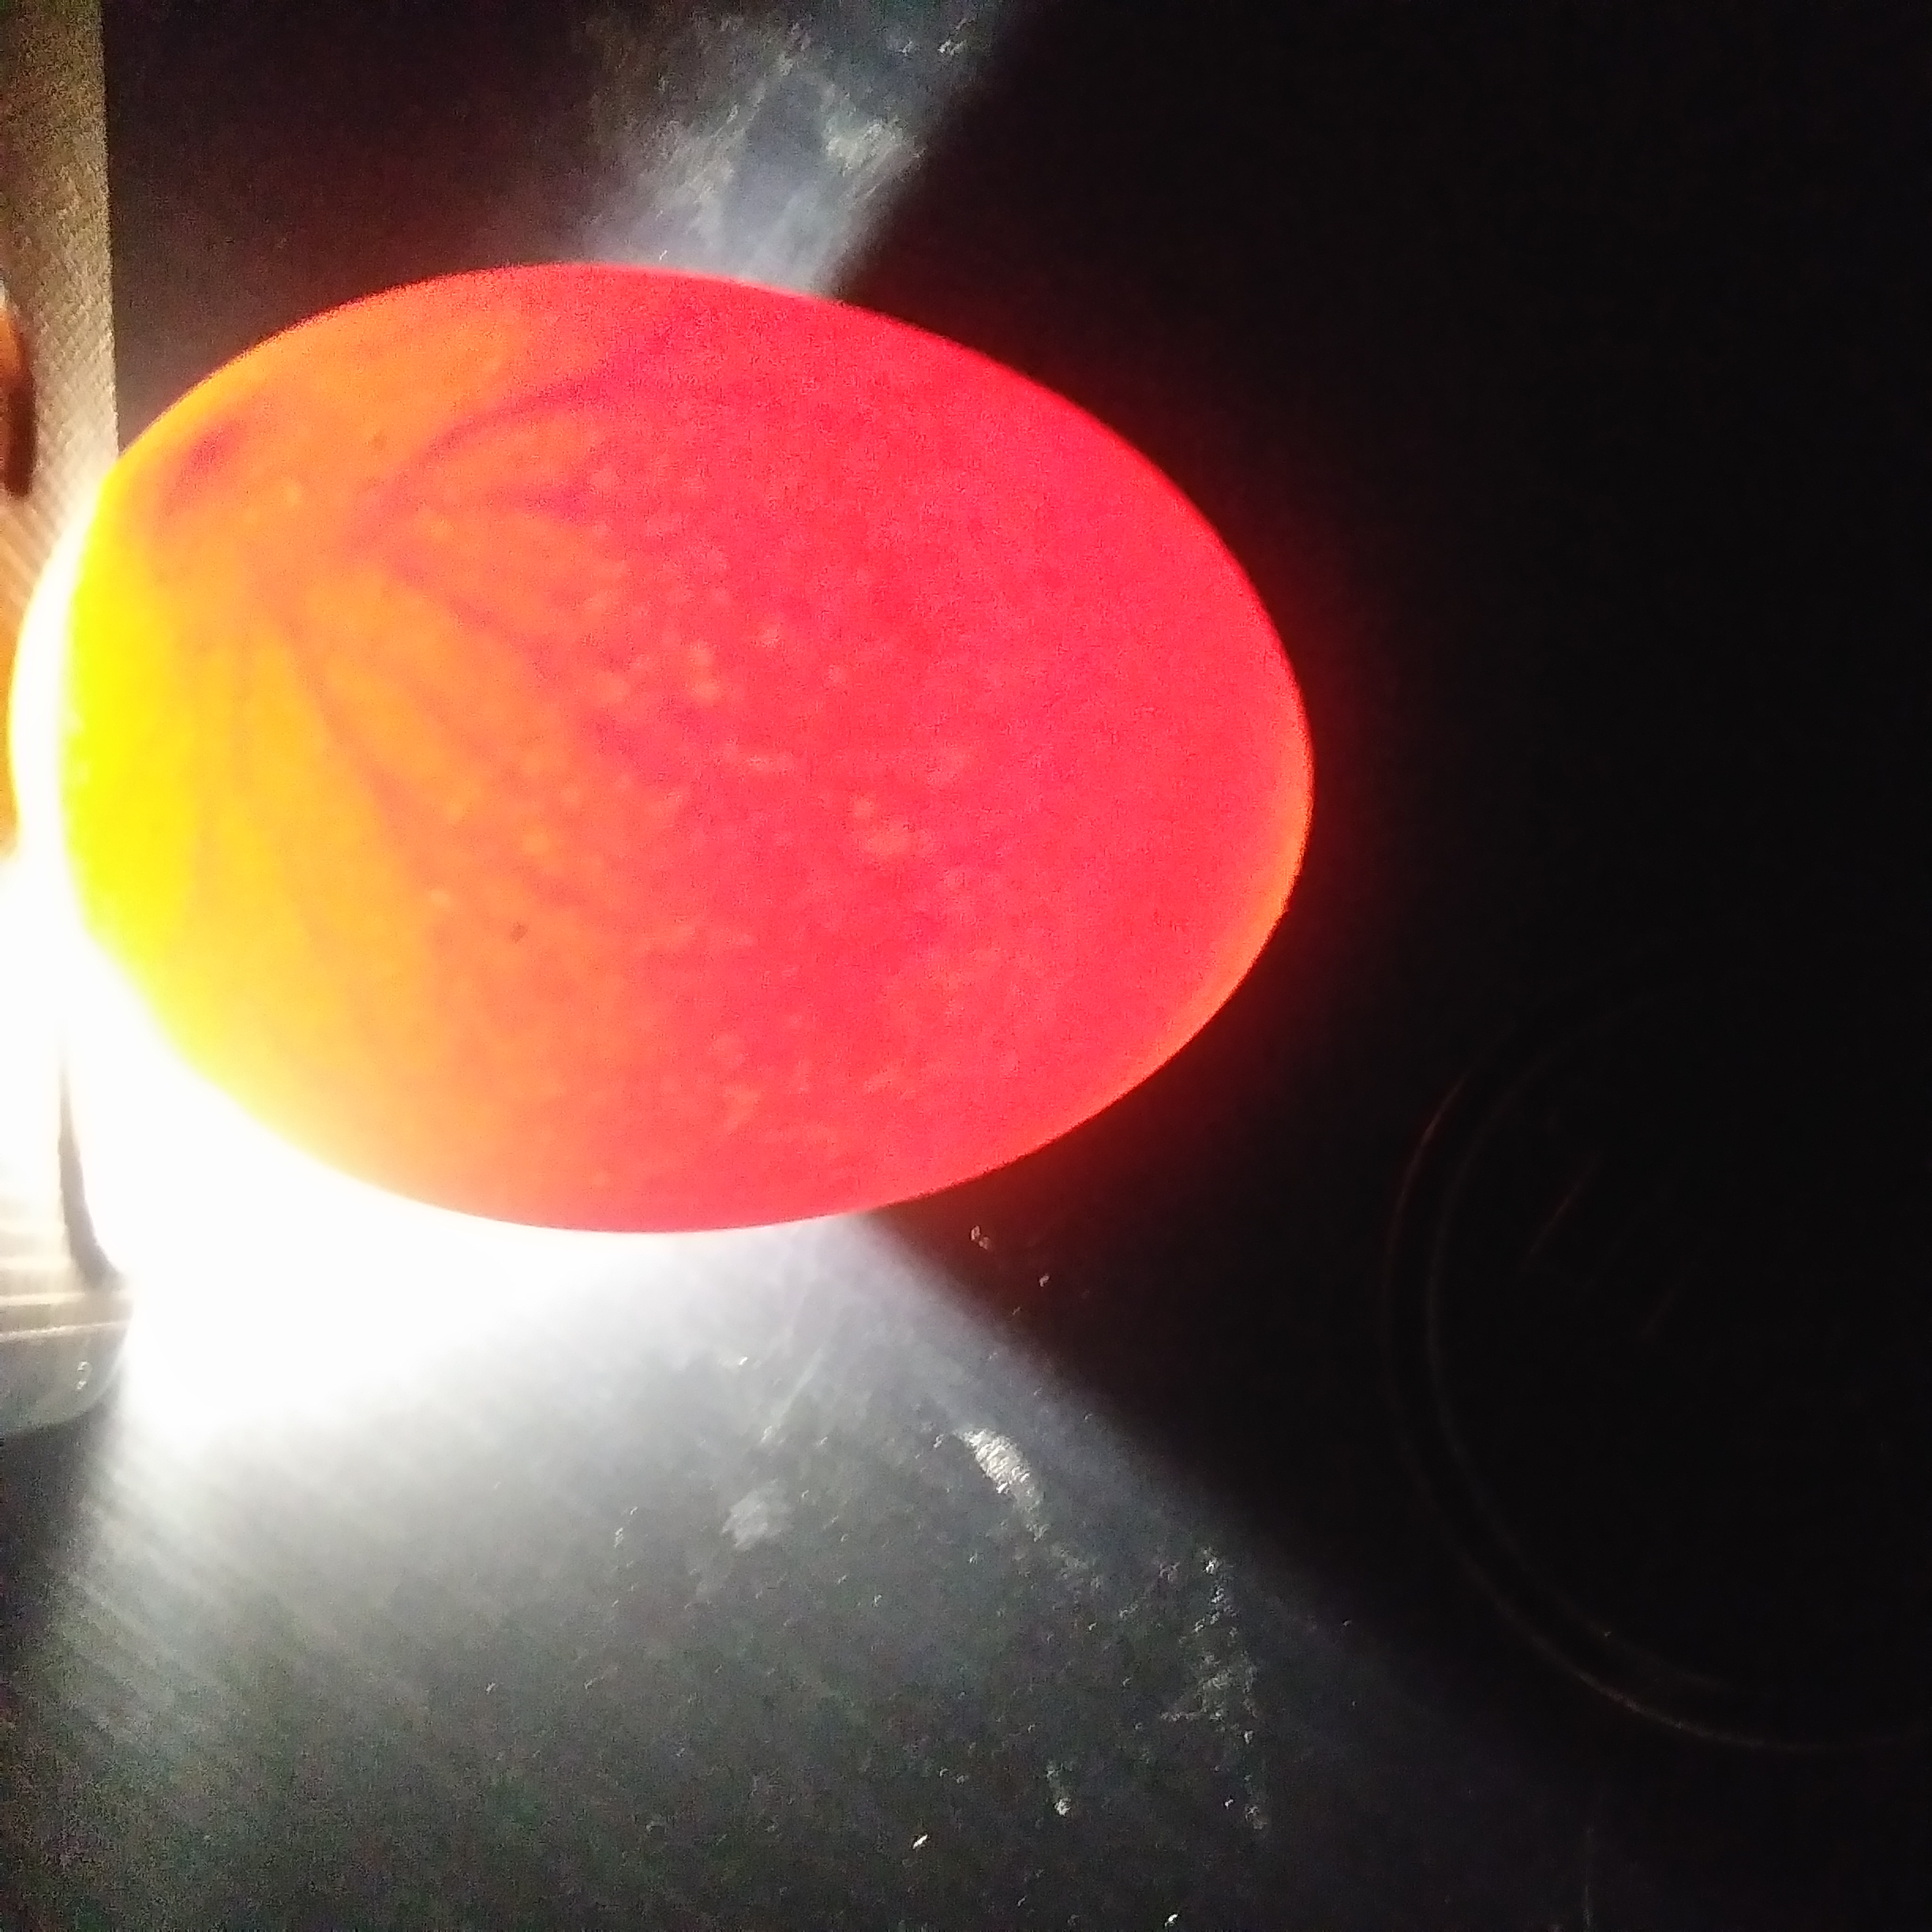bloodcell: (377, 395, 713, 908), (163, 609, 356, 908)
embryo: (138, 430, 278, 556)
